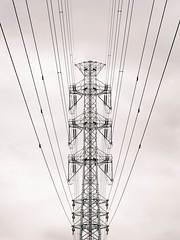power_tower: (61, 58, 122, 240)
